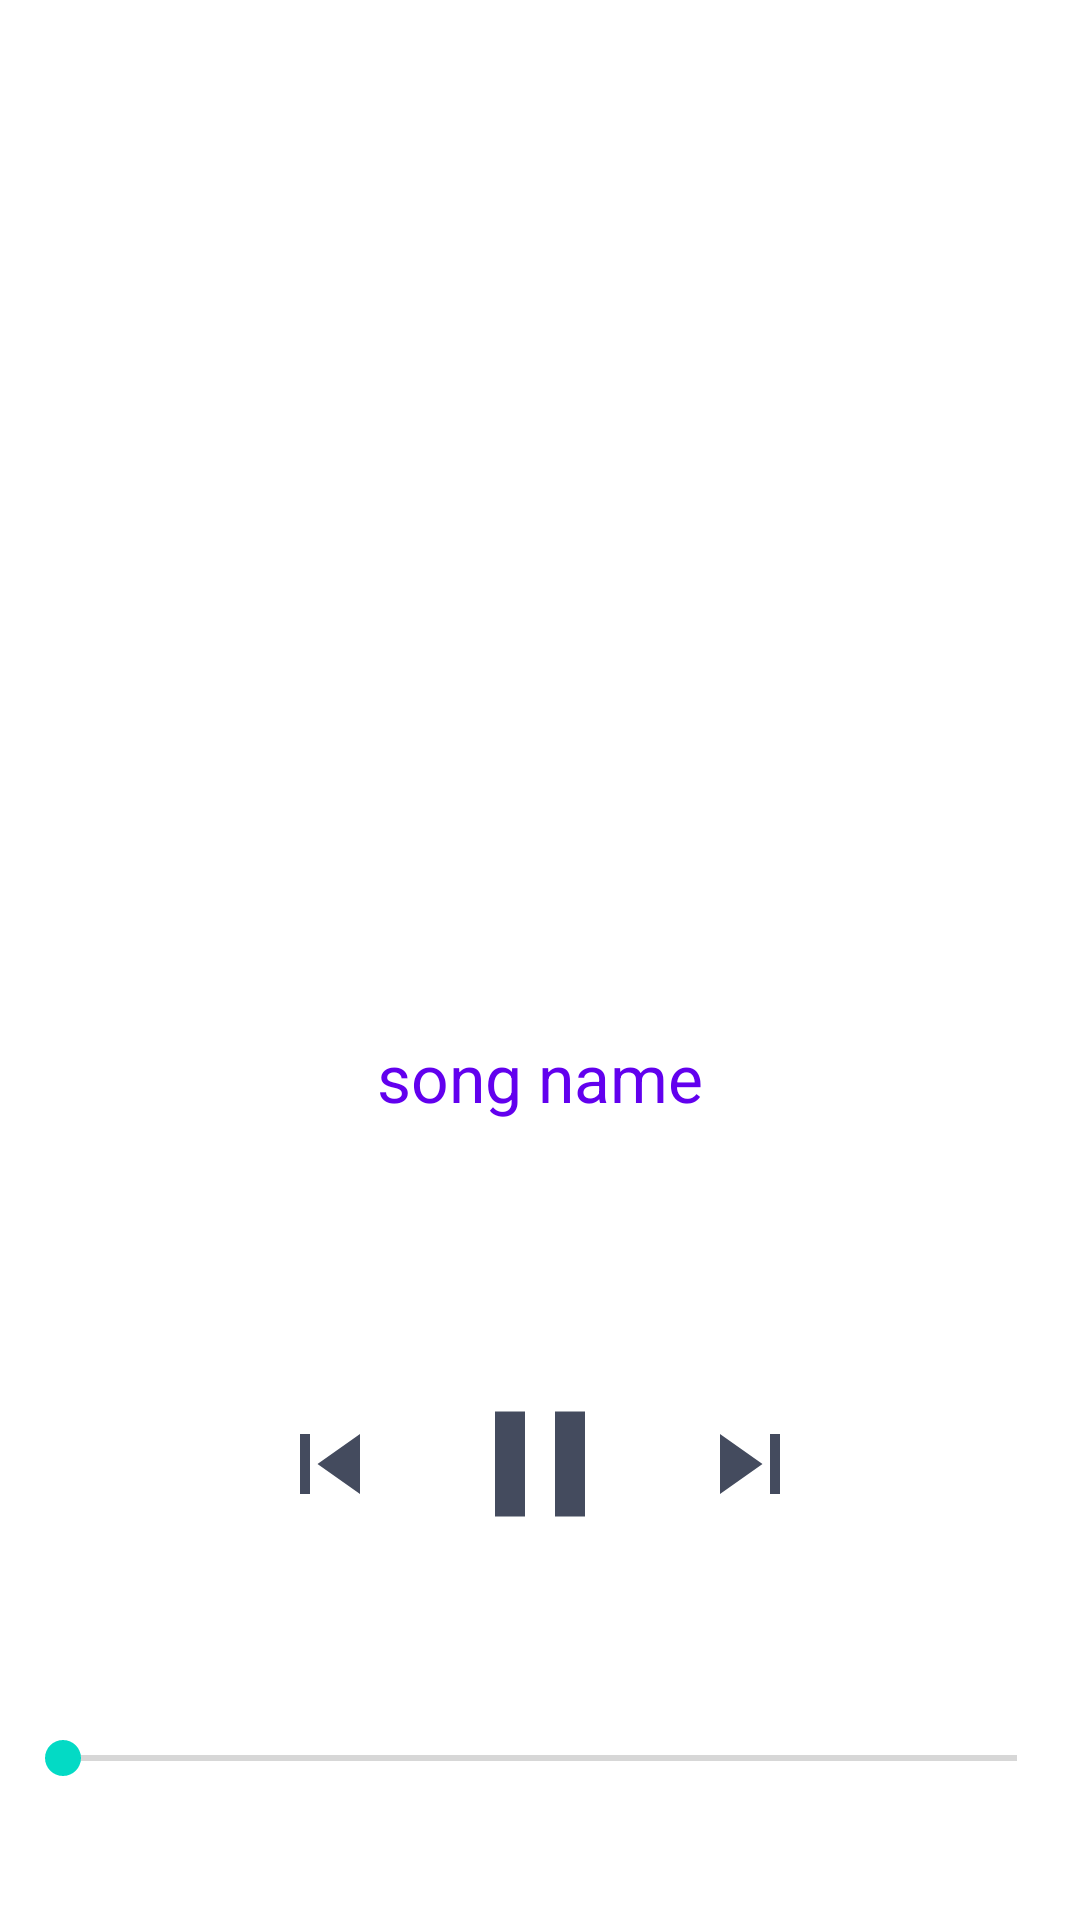

Icon click points for this 1080×1920 phone screenshot, format (x,y):
pause: (540,1464)
skip next: (750,1464)
skip previous: (330,1464)
